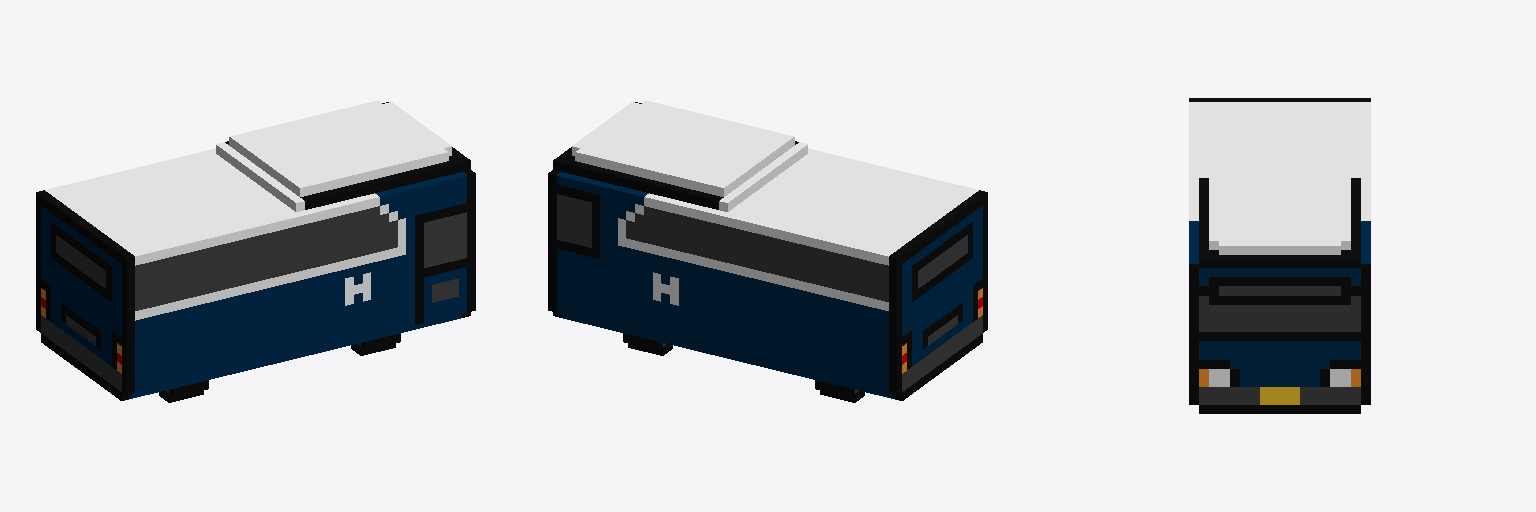
The picture shows the model from 3 angles: view 1: azimuth 30°, elevation 25°; view 2: azimuth 150°, elevation 25°; view 3: azimuth 270°, elevation 25°; orthographic projection.
Visible parts, largest first — view 1: object 1; view 2: object 1; view 3: object 1.
Part boxes in pixels (left/top/right/bottom): object 1: left=36, top=100, right=475, bottom=402; object 1: left=548, top=100, right=987, bottom=402; object 1: left=1189, top=98, right=1370, bottom=413.
Size of the model in its own units: 4 by 2 by 1.8.
1 materials, 1 textured.